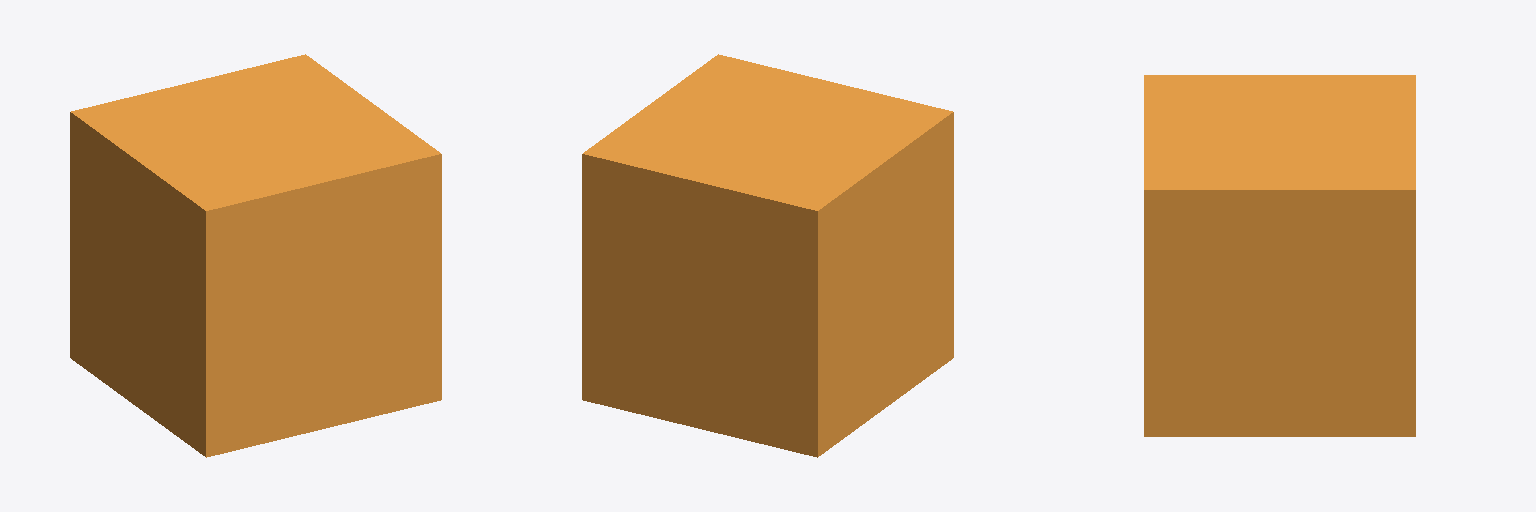
File: LanderBody.obj
3 renders of one model, left to right at view 1: azimuth 30°, elevation 25°; view 2: azimuth 150°, elevation 25°; view 3: azimuth 270°, elevation 25°, orthographic.
Parts seen in each view (by area): view 1: Cube2; view 2: Cube2; view 3: Cube2.
Part boxes in pixels (bbox=[...]): Cube2: bbox=[70, 54, 441, 457]; Cube2: bbox=[582, 54, 953, 457]; Cube2: bbox=[1144, 75, 1415, 436].
Bounding box in the file's own units: 2 × 2 × 2.